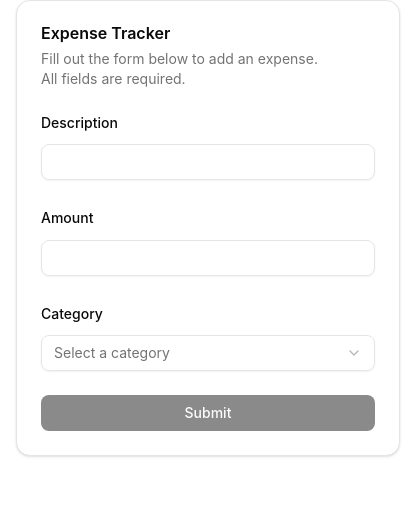
Test: ExpenseTrackerForm › form display and validation › shows error when amount is too small
In the number field labelled "Amount": (208, 258) [41,240,375,276], type "0.003"
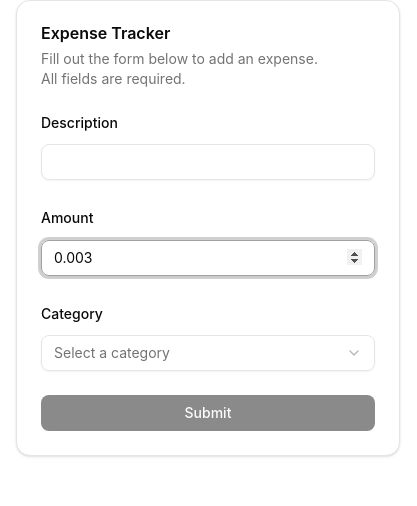
Press Tab
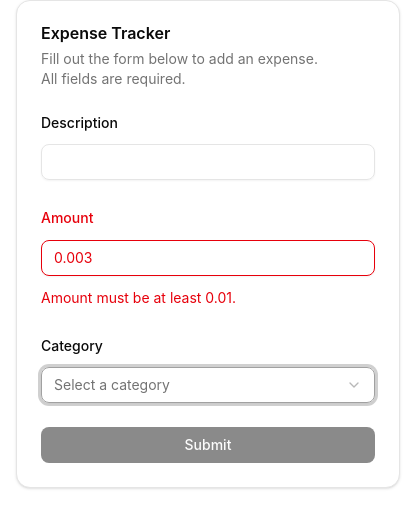
Now the text "Amount must be at least 0.01." is shown, box [41,288,236,306]
